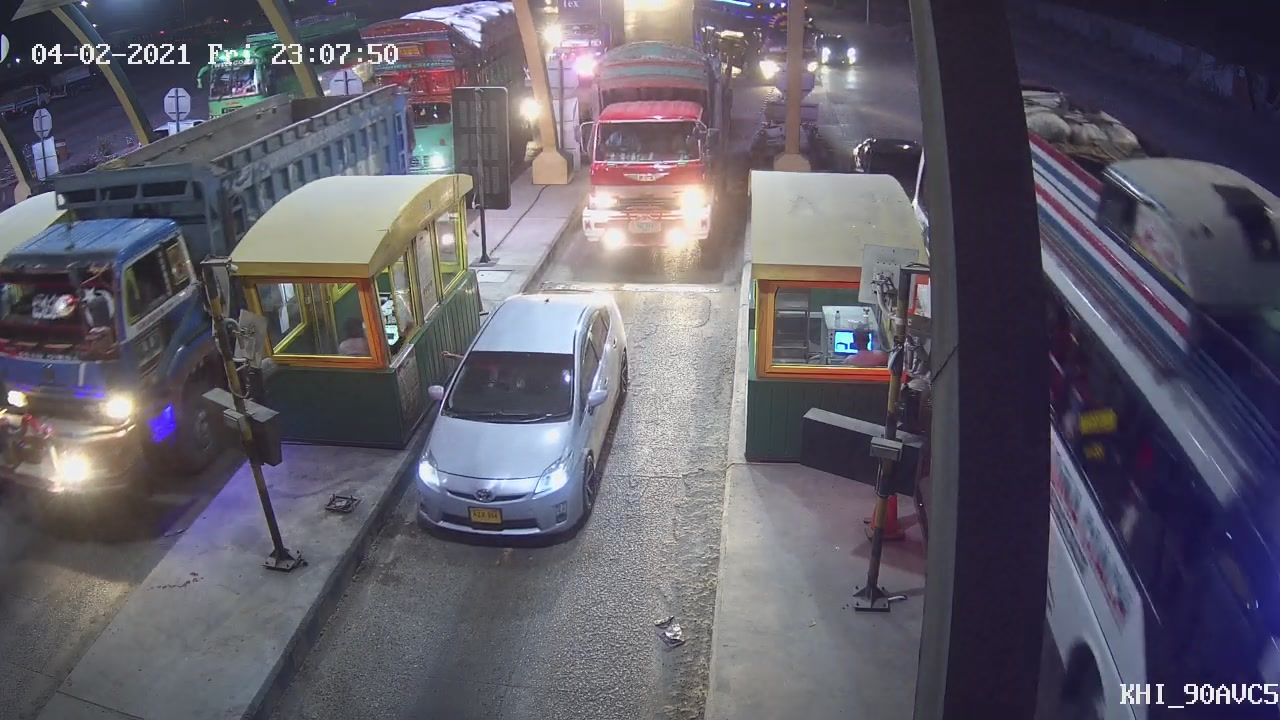F1: (412, 286, 631, 546)
F5: (579, 40, 726, 261)
